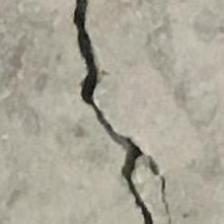Crack: (48, 0, 185, 224)
